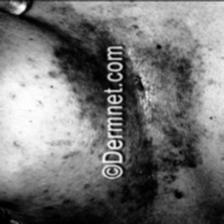Toxin: (125, 8, 200, 207), (43, 9, 106, 134)
